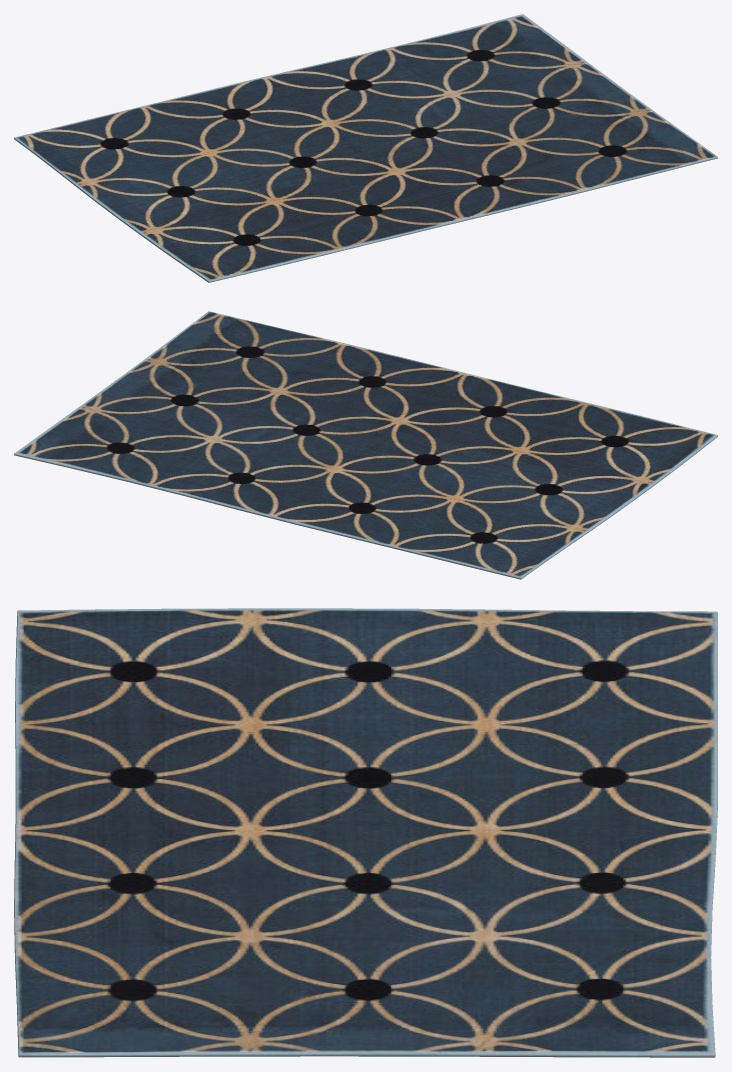
The model's file is B07MJL4ZQ9.glb.
The picture shows the model from 3 angles, top to bottom: view 1: azimuth 30°, elevation 25°; view 2: azimuth 150°, elevation 25°; view 3: azimuth 270°, elevation 25°; orthographic projection. The views are drawn at different scales.
Parts seen in each view (by area): view 1: RootNode; view 2: RootNode; view 3: RootNode.
Part boxes in pixels (bbox=[...]): RootNode: bbox=[14, 14, 717, 282]; RootNode: bbox=[14, 311, 717, 579]; RootNode: bbox=[14, 608, 717, 1057].
Bounding box in the file's own units: 2.28 × 0.0084 × 1.52.
Materials: 1 (1 with a texture image).
